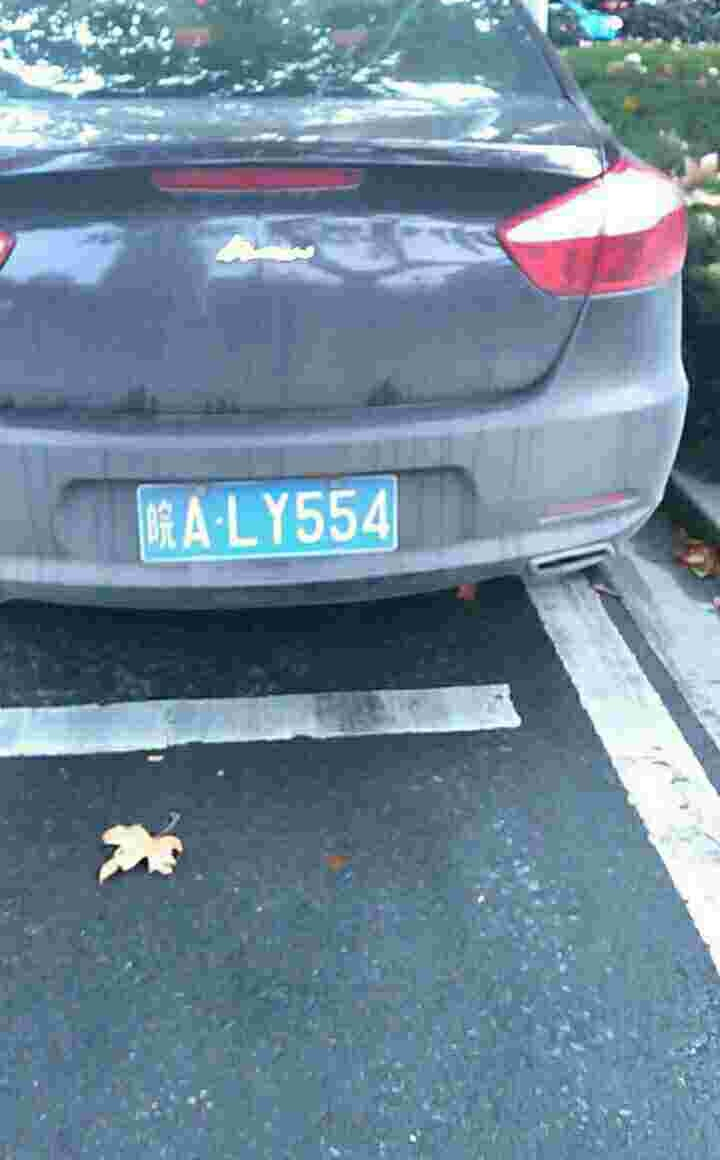license_plate: (133, 479, 412, 568)
